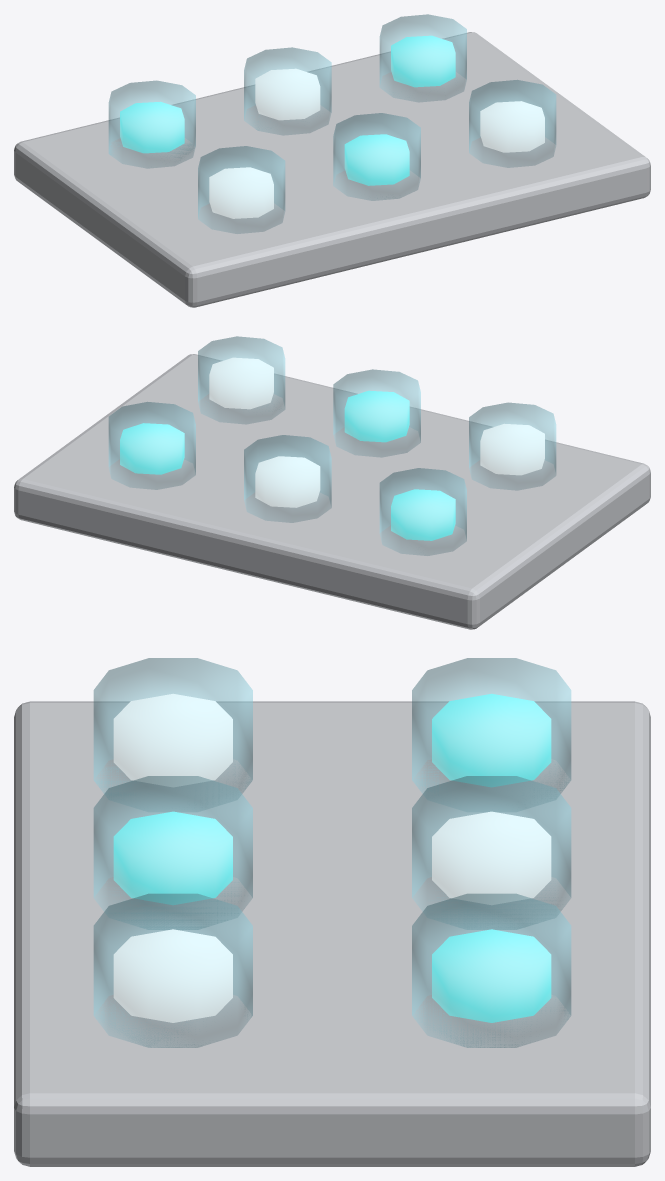
File: vial_set_sample_tray.glb
The picture shows the model from 3 angles, top to bottom: view 1: azimuth 30°, elevation 25°; view 2: azimuth 150°, elevation 25°; view 3: azimuth 270°, elevation 25°; orthographic projection. The views are drawn at different scales.
Parts seen in each view (by area): view 1: GD_vial_set_sample_tray__m0, GD_vial_set_sample_tray__m1, GD_vial_set_sample_tray__m2, GD_vial_set_sample_tray__m3; view 2: GD_vial_set_sample_tray__m0, GD_vial_set_sample_tray__m1, GD_vial_set_sample_tray__m3, GD_vial_set_sample_tray__m2; view 3: GD_vial_set_sample_tray__m0, GD_vial_set_sample_tray__m1, GD_vial_set_sample_tray__m2, GD_vial_set_sample_tray__m3.
Part boxes in pixels (box(x1,y1,x2,y2)): GD_vial_set_sample_tray__m0: box(14, 32, 650, 307); GD_vial_set_sample_tray__m1: box(108, 14, 556, 233); GD_vial_set_sample_tray__m2: box(209, 68, 544, 218); GD_vial_set_sample_tray__m3: box(120, 35, 455, 185); GD_vial_set_sample_tray__m0: box(14, 354, 650, 629); GD_vial_set_sample_tray__m1: box(108, 336, 556, 555); GD_vial_set_sample_tray__m3: box(120, 390, 455, 540); GD_vial_set_sample_tray__m2: box(209, 357, 544, 507); GD_vial_set_sample_tray__m0: box(14, 701, 650, 1166); GD_vial_set_sample_tray__m1: box(93, 658, 571, 1047); GD_vial_set_sample_tray__m2: box(113, 693, 551, 1022); GD_vial_set_sample_tray__m3: box(113, 693, 551, 1022).
Bounding box in the file's own units: 0.24 × 0.045 × 0.16.
